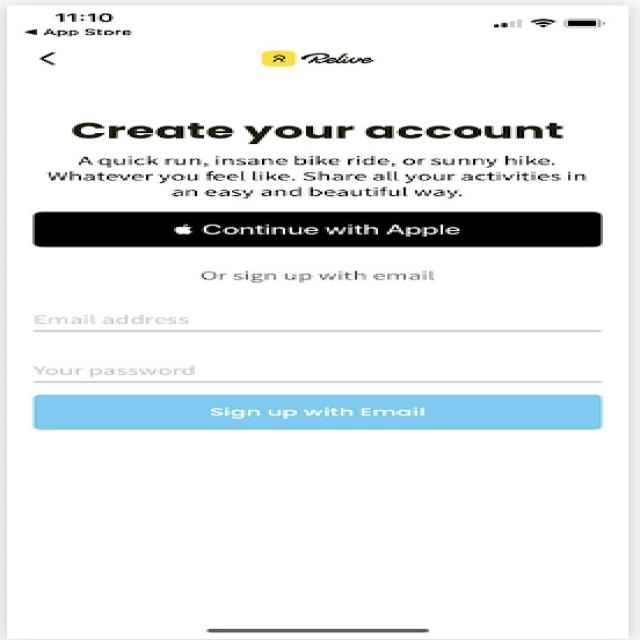button: (15, 384, 620, 442), (15, 205, 611, 256)
icon button: (6, 37, 87, 75)
input: (12, 340, 625, 389), (6, 292, 620, 338)
text: (9, 108, 613, 203)
